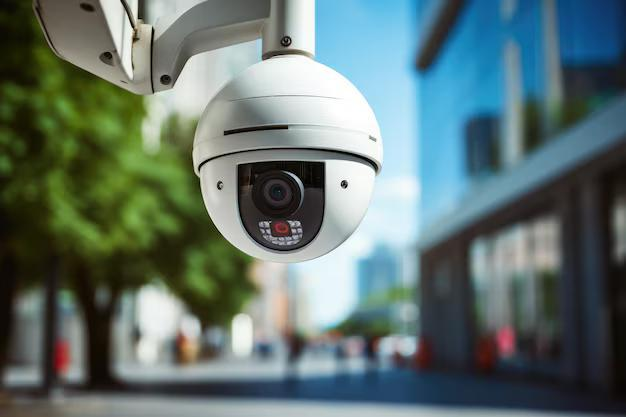360-Cam: (192, 48, 389, 270)
